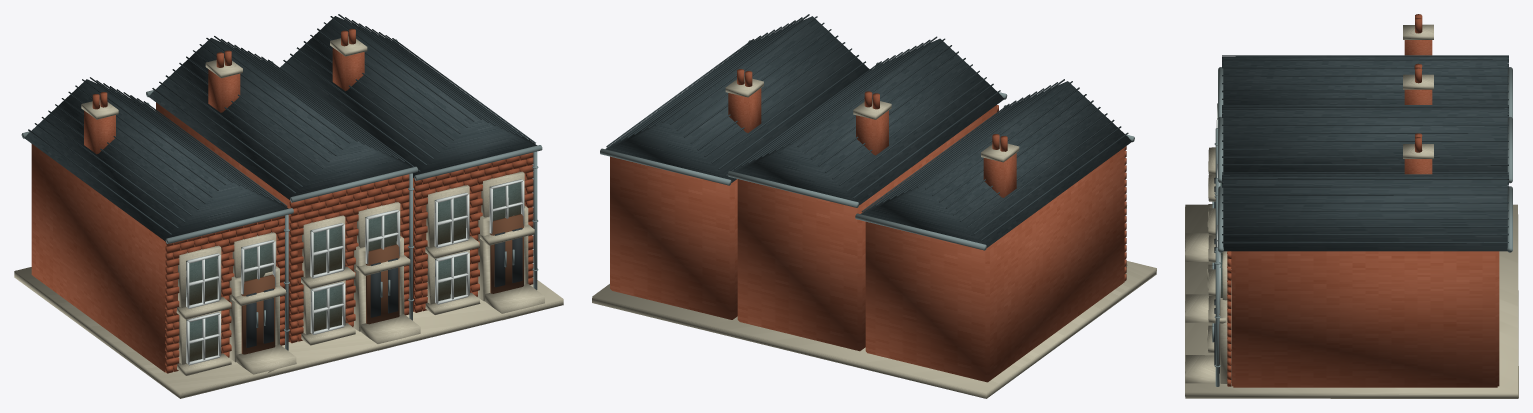
3 renders of one model, left to right at view 1: azimuth 30°, elevation 25°; view 2: azimuth 150°, elevation 25°; view 3: azimuth 270°, elevation 25°, orthographic. The views are drawn at different scales.
Parts seen in each view (by area): view 1: residential_row__static_slate, residential_row__static_warm_brick, residential_row__static_limestone, residential_row__static_warm_glazing, residential_row__static_civic_pale_painted_trim, residential_row__static_patinated_metal, residential_row__door_03, residential_row__door_02, residential_row__door_01__recessed_entrance_leaf, residential_row__door_01__door_inset_panel, residential_row__door_01; view 2: residential_row__static_warm_brick, residential_row__static_slate, residential_row__static_limestone, residential_row__static_patinated_metal; view 3: residential_row__static_slate, residential_row__static_warm_brick, residential_row__static_limestone, residential_row__static_patinated_metal.
Part boxes in pixels (x1=…): residential_row__static_slate: x1=24, y1=14, x2=536, y2=241; residential_row__static_warm_brick: x1=31, y1=28, x2=533, y2=373; residential_row__static_limestone: x1=14, y1=36, x2=563, y2=398; residential_row__static_warm_glazing: x1=186, y1=182, x2=521, y2=361; residential_row__static_civic_pale_painted_trim: x1=186, y1=179, x2=524, y2=365; residential_row__static_patinated_metal: x1=21, y1=39, x2=542, y2=350; residential_row__door_03: x1=490, y1=214, x2=523, y2=293; residential_row__door_02: x1=366, y1=244, x2=399, y2=324; residential_row__door_01__recessed_entrance_leaf: x1=241, y1=274, x2=275, y2=354; residential_row__door_01__door_inset_panel: x1=246, y1=292, x2=256, y2=347; residential_row__door_01: x1=263, y1=288, x2=273, y2=343; residential_row__static_warm_brick: x1=610, y1=69, x2=1126, y2=382; residential_row__static_slate: x1=605, y1=14, x2=1132, y2=247; residential_row__static_limestone: x1=592, y1=76, x2=1156, y2=398; residential_row__static_patinated_metal: x1=600, y1=40, x2=1134, y2=250; residential_row__static_slate: x1=1222, y1=55, x2=1508, y2=251; residential_row__static_warm_brick: x1=1227, y1=14, x2=1499, y2=387; residential_row__static_limestone: x1=1185, y1=24, x2=1518, y2=398; residential_row__static_patinated_metal: x1=1214, y1=67, x2=1512, y2=386.
Bounding box in the file's own units: 7.97 × 4.4 × 5.98.
8 materials, 4 textured.
